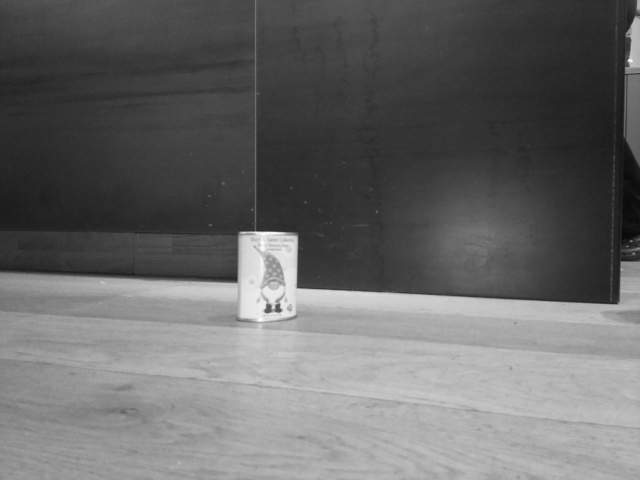gnome: (247, 243, 295, 316)
